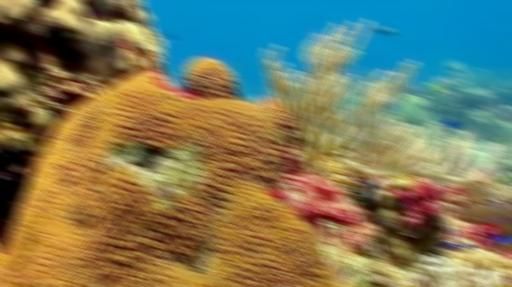Fish: (440, 118, 461, 128), (491, 234, 510, 244), (437, 241, 458, 249), (446, 223, 457, 238), (375, 26, 394, 34), (448, 63, 463, 73), (457, 240, 474, 248), (162, 31, 175, 38)
